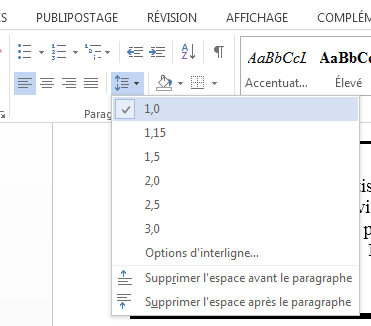texte: (191, 238, 250, 266), (203, 287, 244, 315), (146, 238, 184, 266), (206, 264, 244, 292), (37, 13, 118, 22), (248, 287, 274, 315), (293, 273, 352, 285), (292, 297, 351, 309), (248, 264, 272, 292), (145, 273, 200, 285), (318, 10, 371, 22), (148, 10, 196, 22), (226, 13, 288, 22), (298, 6, 312, 30), (85, 110, 111, 120), (210, 6, 220, 30), (145, 128, 165, 139), (145, 104, 160, 115), (145, 152, 159, 163), (145, 176, 159, 187), (145, 200, 159, 211), (145, 224, 159, 235), (360, 200, 370, 213), (360, 183, 371, 192), (364, 226, 371, 239), (281, 273, 289, 282), (280, 297, 288, 306), (122, 106, 130, 113), (145, 297, 151, 306), (2, 13, 7, 22), (0, 111, 5, 118), (360, 141, 371, 144)
